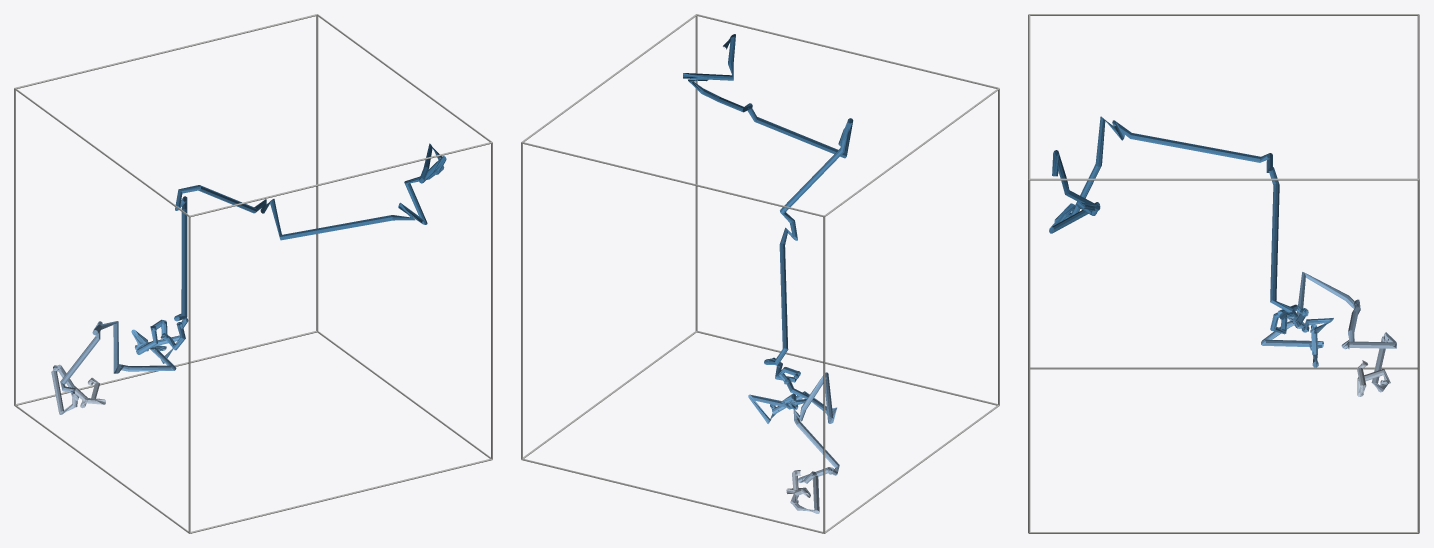
The model's file is BT20_calm.glb.
3 views of the same model, side by side, from view 1: azimuth 30°, elevation 25°; view 2: azimuth 150°, elevation 25°; view 3: azimuth 270°, elevation 25° (orthographic). The views are drawn at different scales.
Parts seen in each view (by area): view 1: geometry_1, geometry_0; view 2: geometry_1, geometry_0; view 3: geometry_0, geometry_1.
Boxes of the visible parts, left/top/right/bottom form: geometry_1: left=14, top=14, right=492, bottom=533; geometry_0: left=51, top=143, right=446, bottom=414; geometry_1: left=521, top=14, right=999, bottom=533; geometry_0: left=683, top=34, right=853, bottom=513; geometry_0: left=1049, top=116, right=1396, bottom=396; geometry_1: left=1028, top=14, right=1419, bottom=533.
Size of the model in its own units: 0.3016 by 0.3032 by 0.3016.
